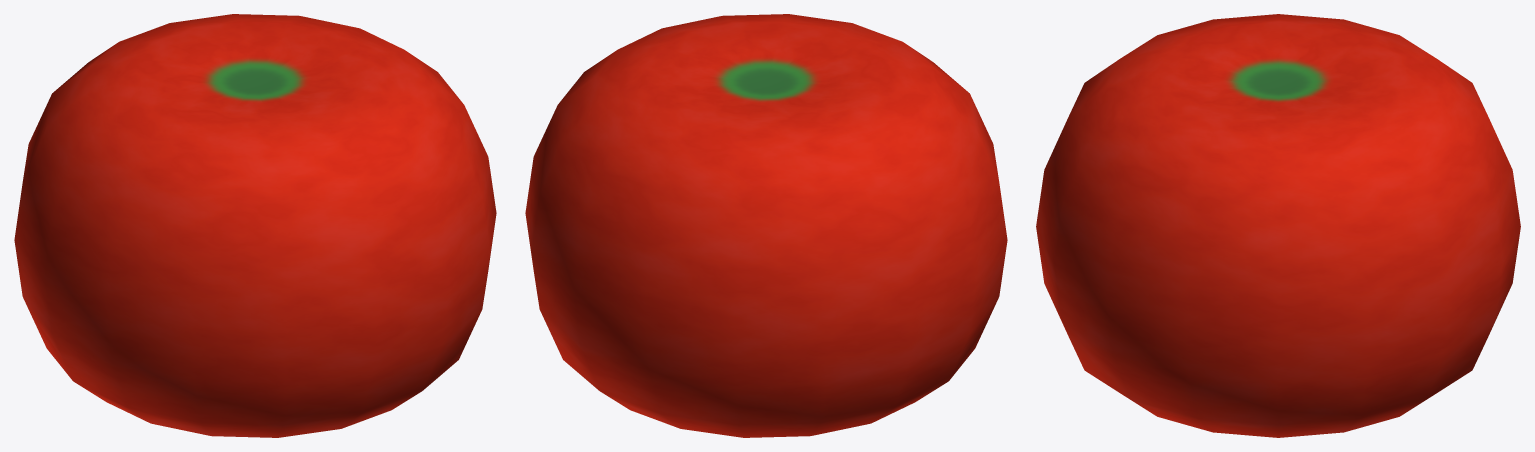
The model's file is Tomato.fbx.
3 renders of one model, left to right at view 1: azimuth 30°, elevation 25°; view 2: azimuth 150°, elevation 25°; view 3: azimuth 270°, elevation 25°, orthographic.
Parts seen in each view (by area): view 1: Sphere; view 2: Sphere; view 3: Sphere.
Part boxes in pixels (x1,y1,x2,y2): Sphere: (14, 14, 496, 437); Sphere: (525, 14, 1007, 437); Sphere: (1036, 14, 1520, 437).
Bounding box in the file's own units: 5.85 × 4.2 × 5.85.
1 material, 1 textured.
